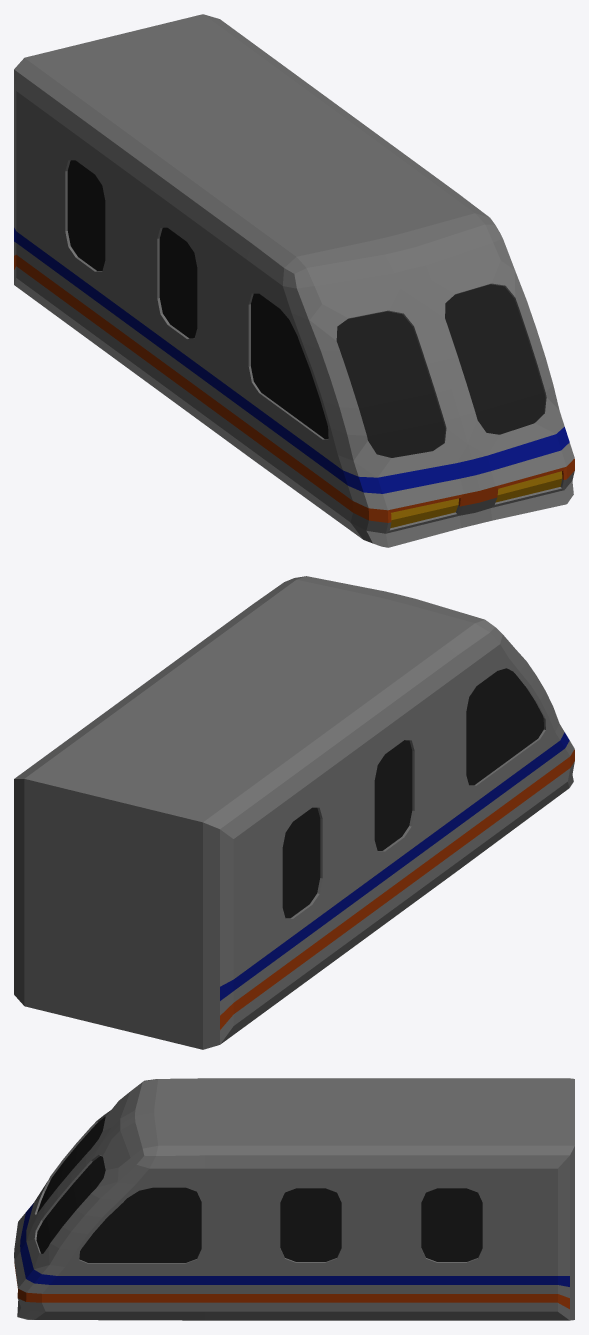
File: Train2.fbx
3 views of the same model, one above another, from view 1: azimuth 30°, elevation 25°; view 2: azimuth 150°, elevation 25°; view 3: azimuth 270°, elevation 25° (orthographic). The views are drawn at different scales.
Parts seen in each view (by area): view 1: Cube, Cube.001; view 2: Cube; view 3: Cube.
Part boxes in pixels (x1=…): Cube: x1=14, y1=14, x2=574, y2=547; Cube.001: x1=390, y1=471, x2=562, y2=528; Cube: x1=14, y1=576, x2=574, y2=1049; Cube: x1=14, y1=1078, x2=574, y2=1320.
Bounding box in the file's own units: 400 × 400 × 1168.
